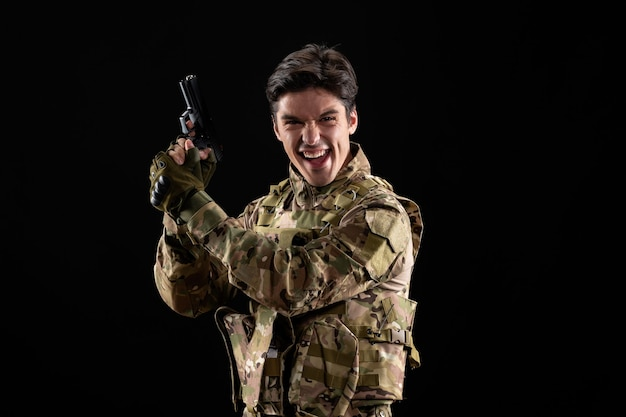gun: (179, 70, 224, 160)
